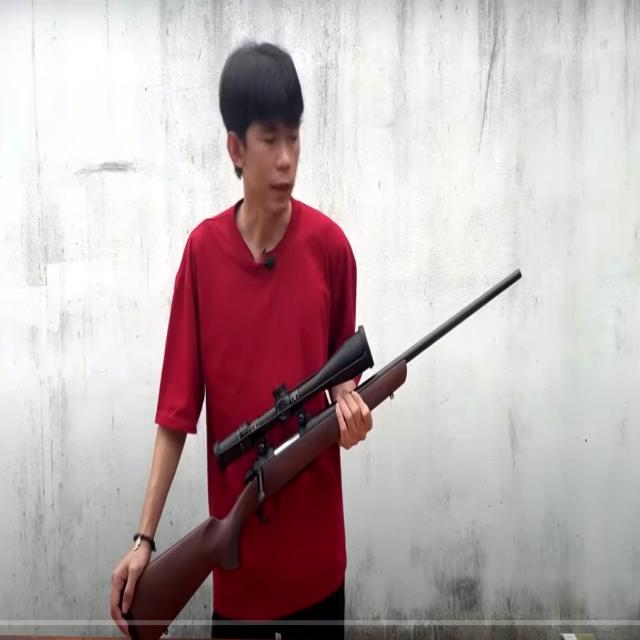rifle: (100, 262, 531, 622)
